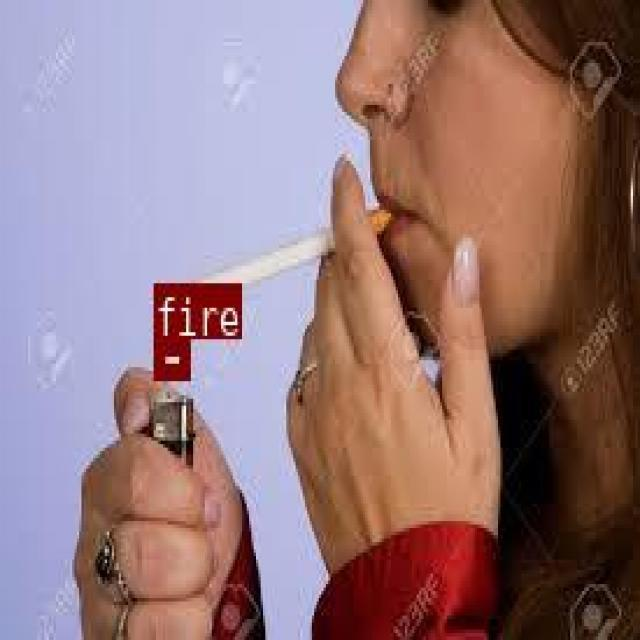fire: (152, 337, 186, 378)
